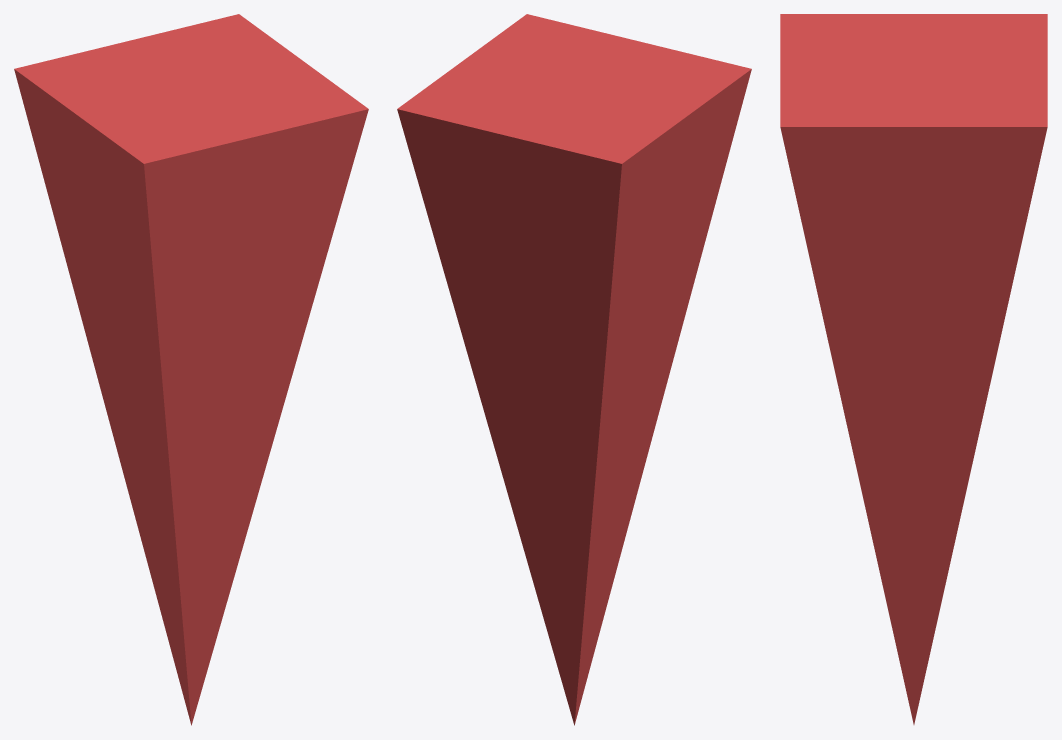
Rendered from SM_Sqaure_Bullet.fbx.
3 views of the same model, side by side, from view 1: azimuth 30°, elevation 25°; view 2: azimuth 150°, elevation 25°; view 3: azimuth 270°, elevation 25° (orthographic). The views are drawn at different scales.
Parts seen in each view (by area): view 1: pCube1; view 2: pCube1; view 3: pCube1.
Boxes of the visible parts, <box> form: pCube1: <box>14,14,368,725</box>; pCube1: <box>397,14,751,725</box>; pCube1: <box>780,14,1047,724</box>.
Bounding box in the file's own units: 2.25 × 6.09 × 2.25.
